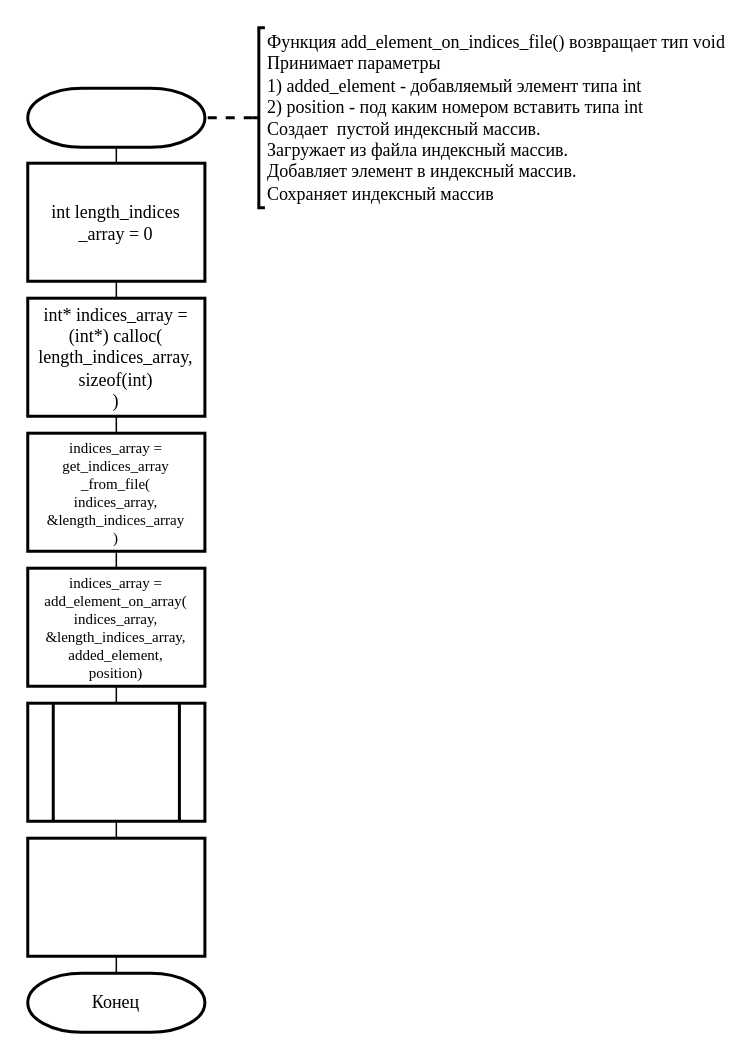
Image size: 752x1059. Some labels were removed from this diagram. Here are the shapes that lost their labels. From the top down, the centre of each, then its label:
(x=116, y=117): void add_element _on_indices_file()
(x=116, y=761): save_indices_array _on_file( indices_array, length_indices_array )
(x=116, y=896): free(indices_array)
